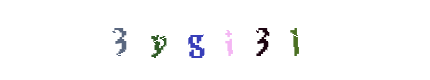3: (97, 0, 177, 80), (180, 0, 260, 80)
G: (164, 0, 244, 80)
I: (175, 0, 255, 80)
L: (223, 0, 303, 80)
Y: (156, 0, 236, 80)
